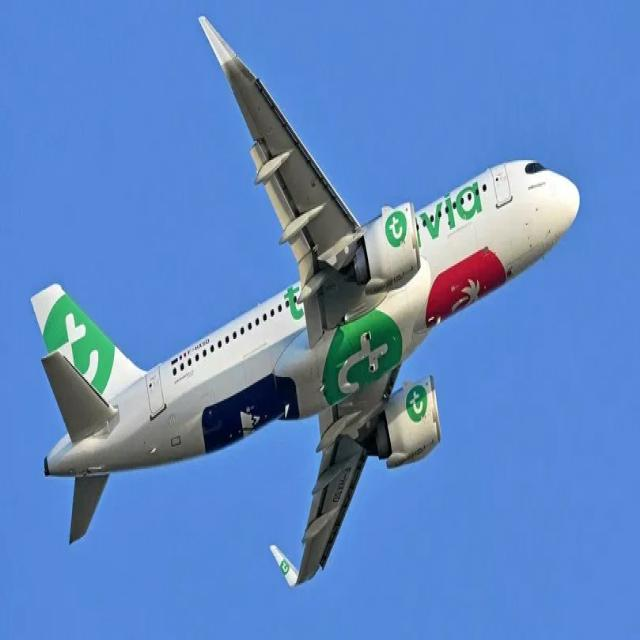aircraft: (4, 0, 612, 640)
